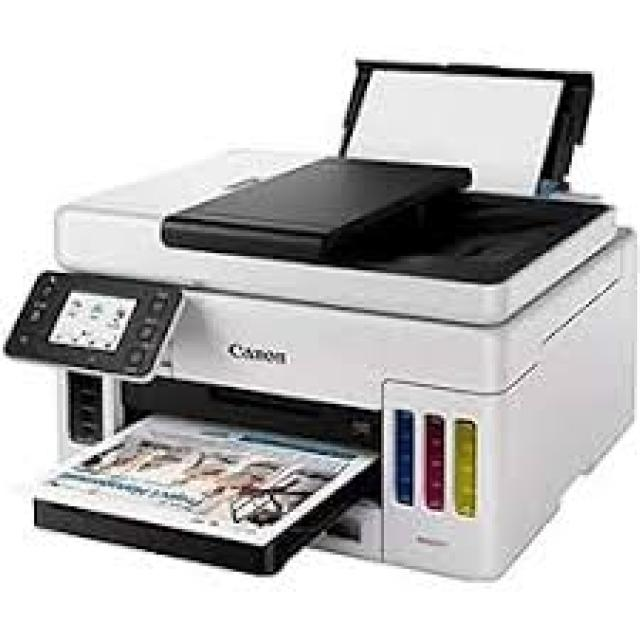printer: (3, 54, 637, 583)
